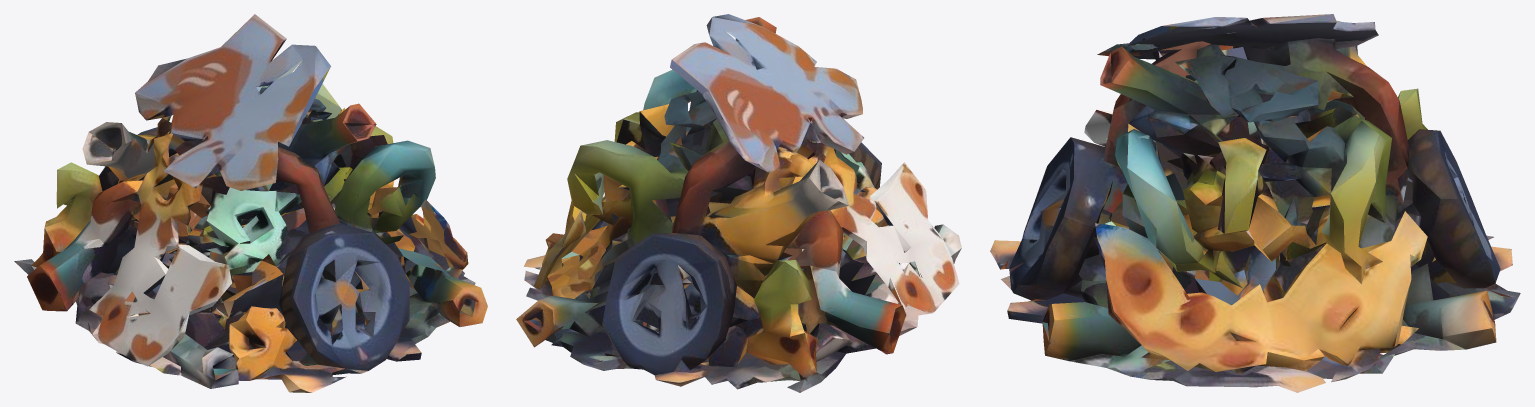
File: scrap_heap.glb
3 renders of one model, left to right at view 1: azimuth 30°, elevation 25°; view 2: azimuth 150°, elevation 25°; view 3: azimuth 270°, elevation 25°, orthographic. The views are drawn at different scales.
Visible parts, largest first — view 1: scrap_heap_s43; view 2: scrap_heap_s43; view 3: scrap_heap_s43.
Part boxes in pixels (x1,y1,x2,y2): scrap_heap_s43: (14,14,487,392); scrap_heap_s43: (516,14,961,392); scrap_heap_s43: (990,14,1520,392).
Size of the model in its own units: 0.9629 by 0.6111 by 1.
1 material, 1 textured.
